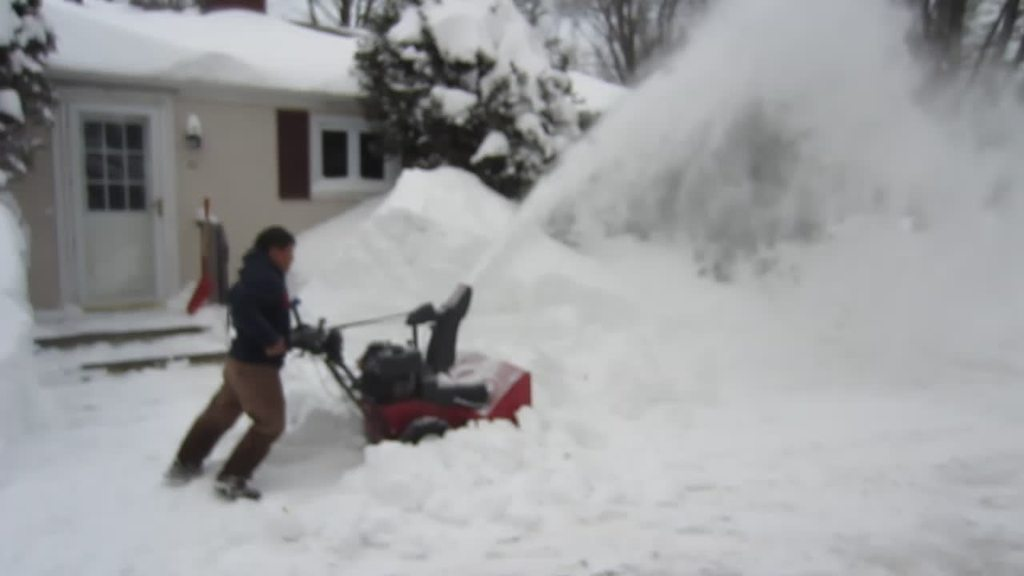Person: (163, 225, 337, 498)
